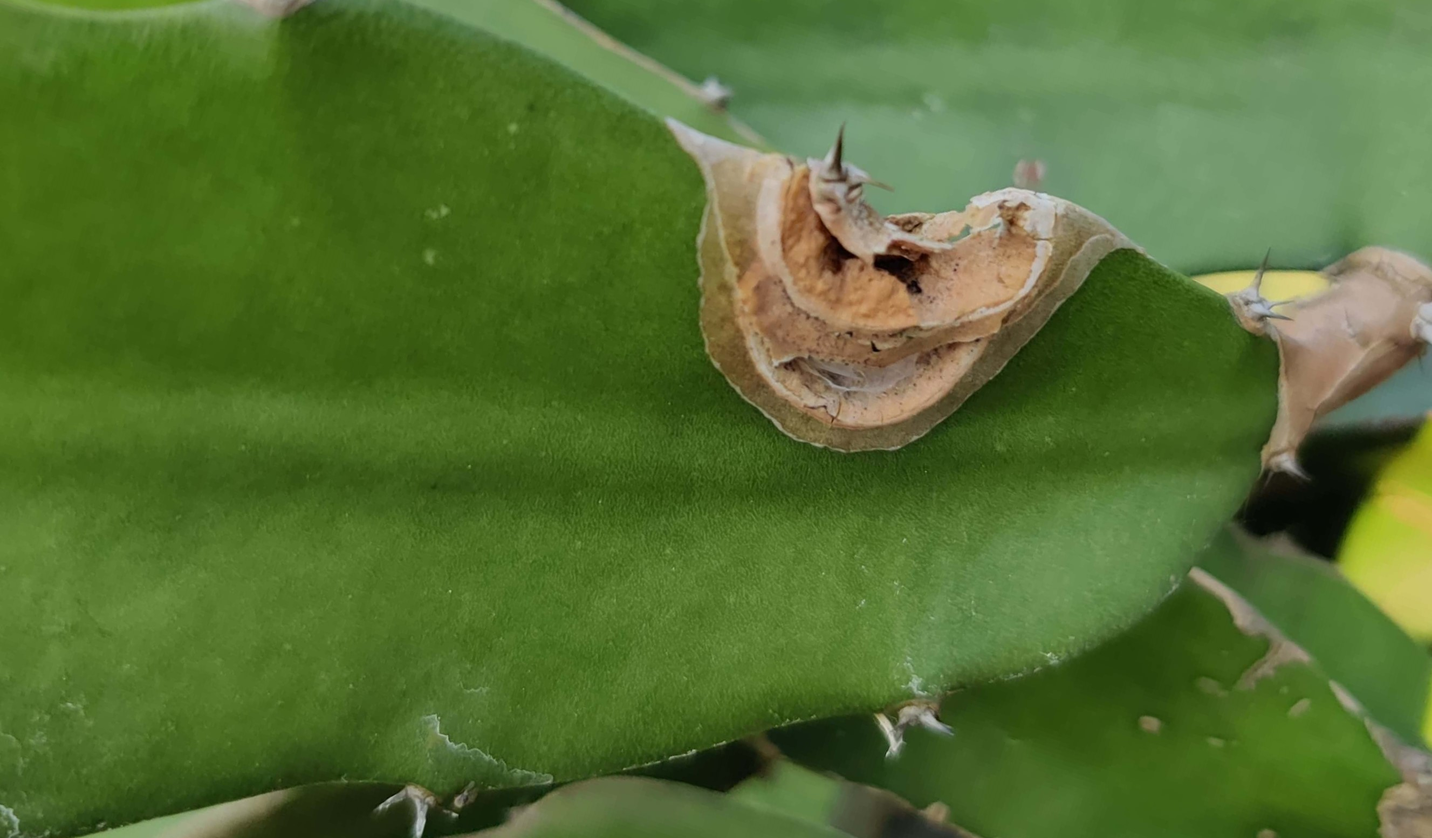stemcanker: (646, 120, 1129, 454)
